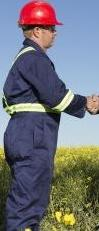hard-hat: (15, 0, 64, 25)
ppe-suit: (1, 37, 86, 230)
